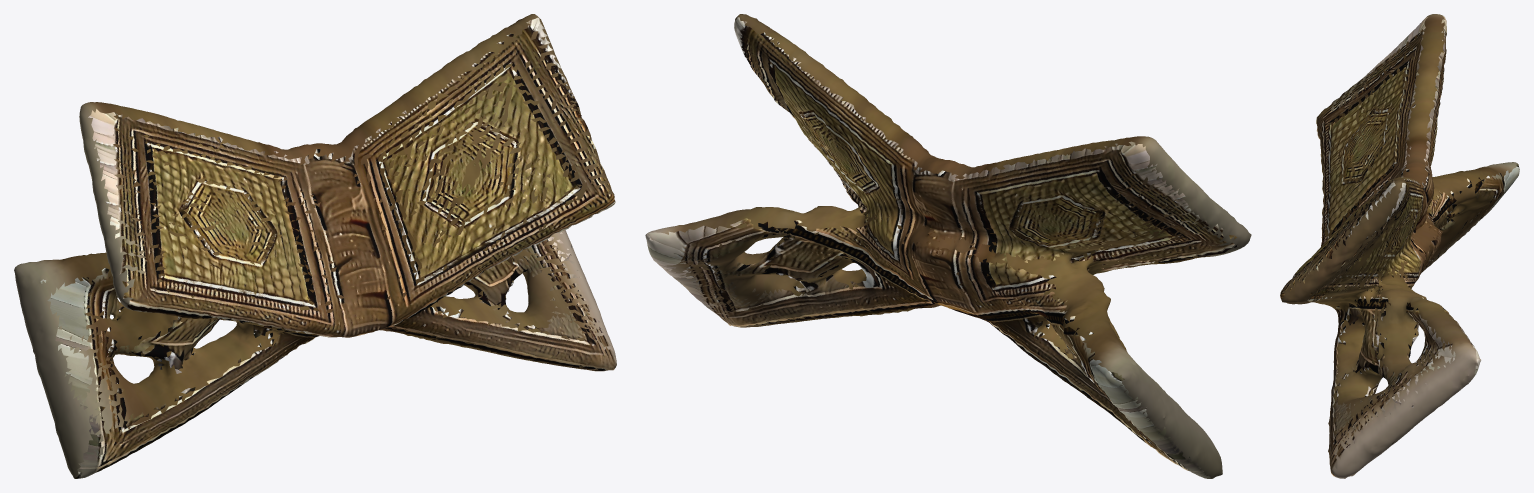
Rendered from kfl-2261.glb.
3 renders of one model, left to right at view 1: azimuth 30°, elevation 25°; view 2: azimuth 150°, elevation 25°; view 3: azimuth 270°, elevation 25°, orthographic. The views are drawn at different scales.
Visible parts, largest first — view 1: kfl-2261; view 2: kfl-2261; view 3: kfl-2261.
Part boxes in pixels (x1,y1,x2,y2): kfl-2261: (14,14,616,478); kfl-2261: (645,14,1251,478); kfl-2261: (1280,14,1519,478).
Size of the model in its own units: 0.99 by 0.6329 by 0.4795.
Materials: 4 (4 with a texture image).
